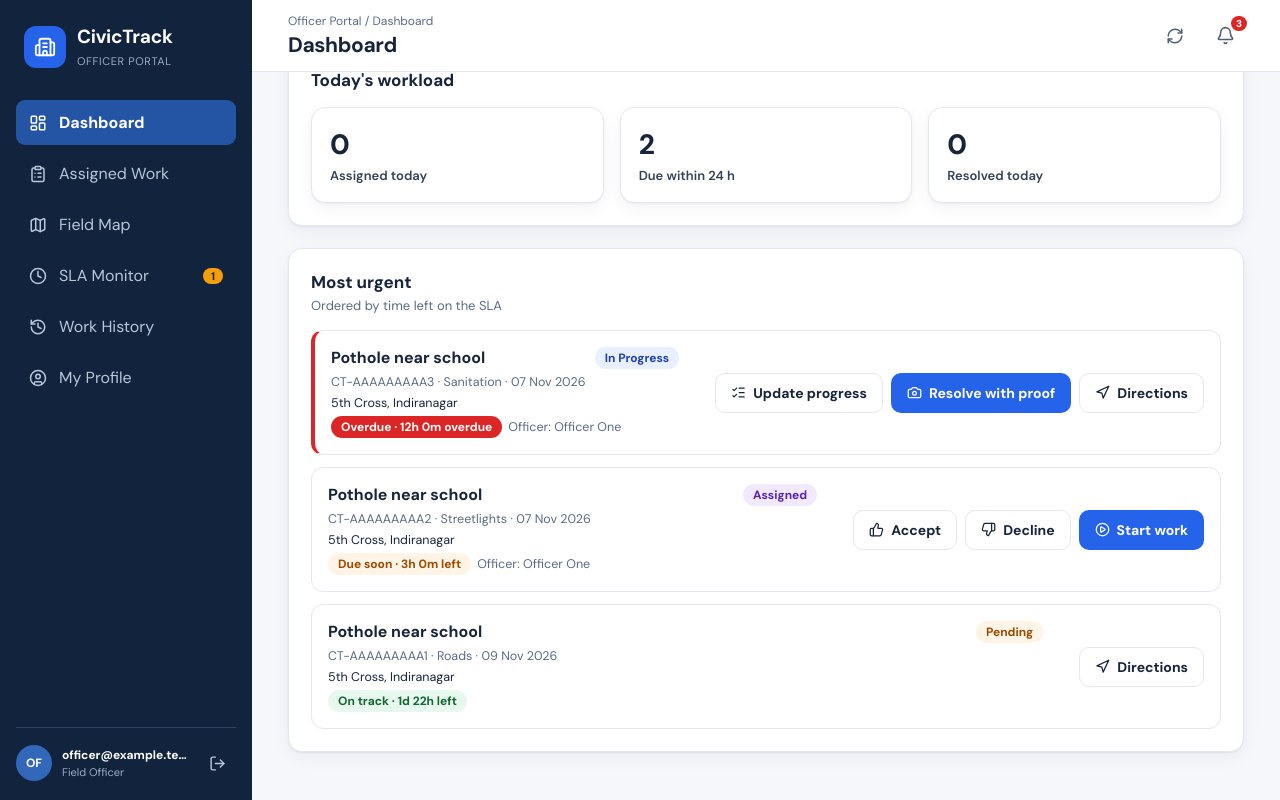
Scenario: officer assignment responses › accepts and declines with a mandatory reason
Later steps or results of the test are not shown.
(page scrolled)
Click the button "Accept".
click(905, 530)  # box [853,510,957,550]
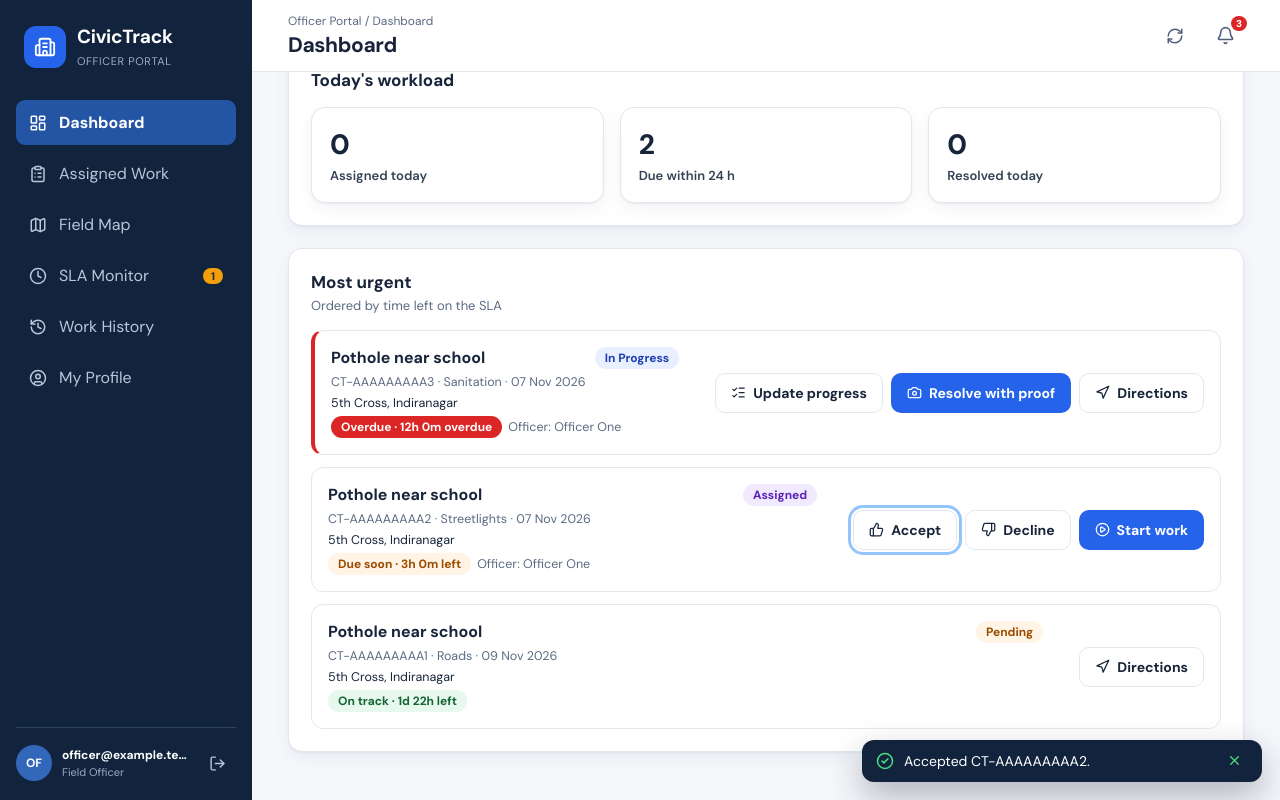
Click the button "Decline".
click(1018, 530)  # box [965,510,1071,550]
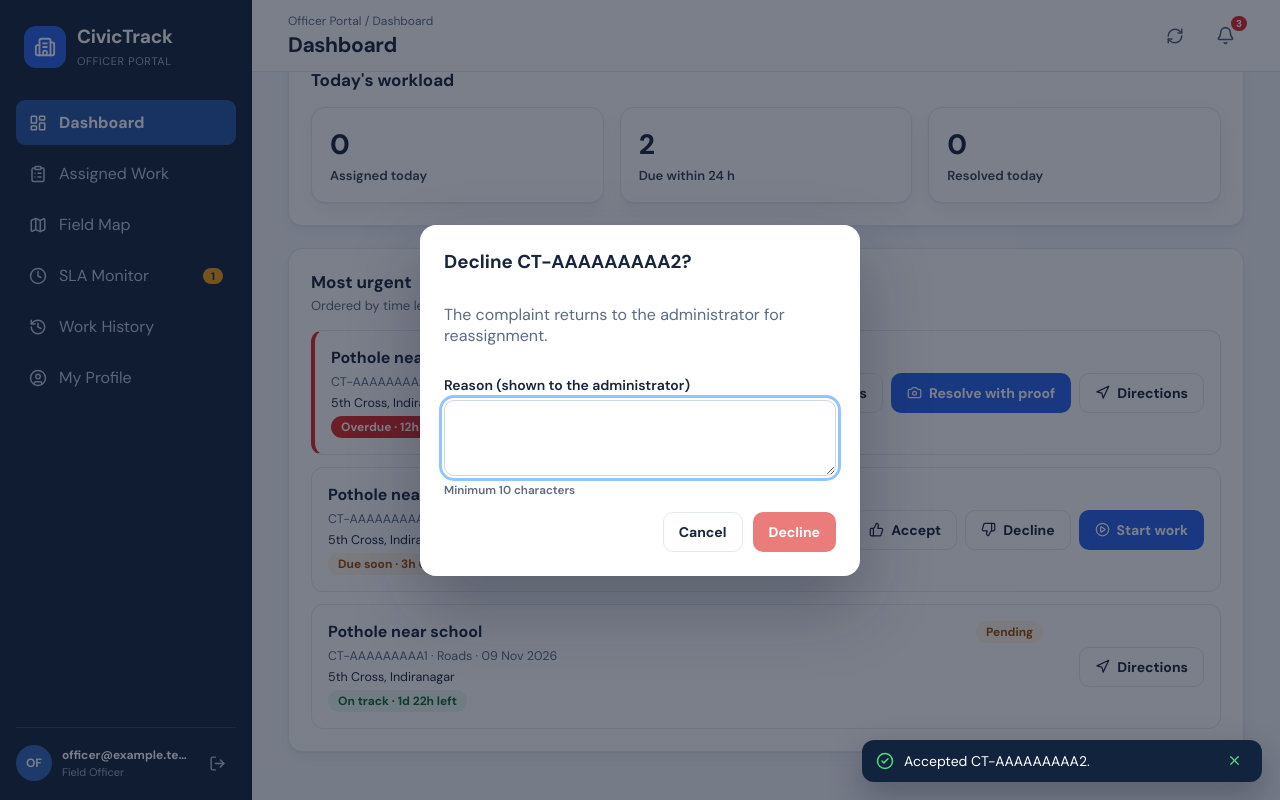
Type "too short" into the text box.
click(640, 438); type("too short")  # box [444,400,836,476]
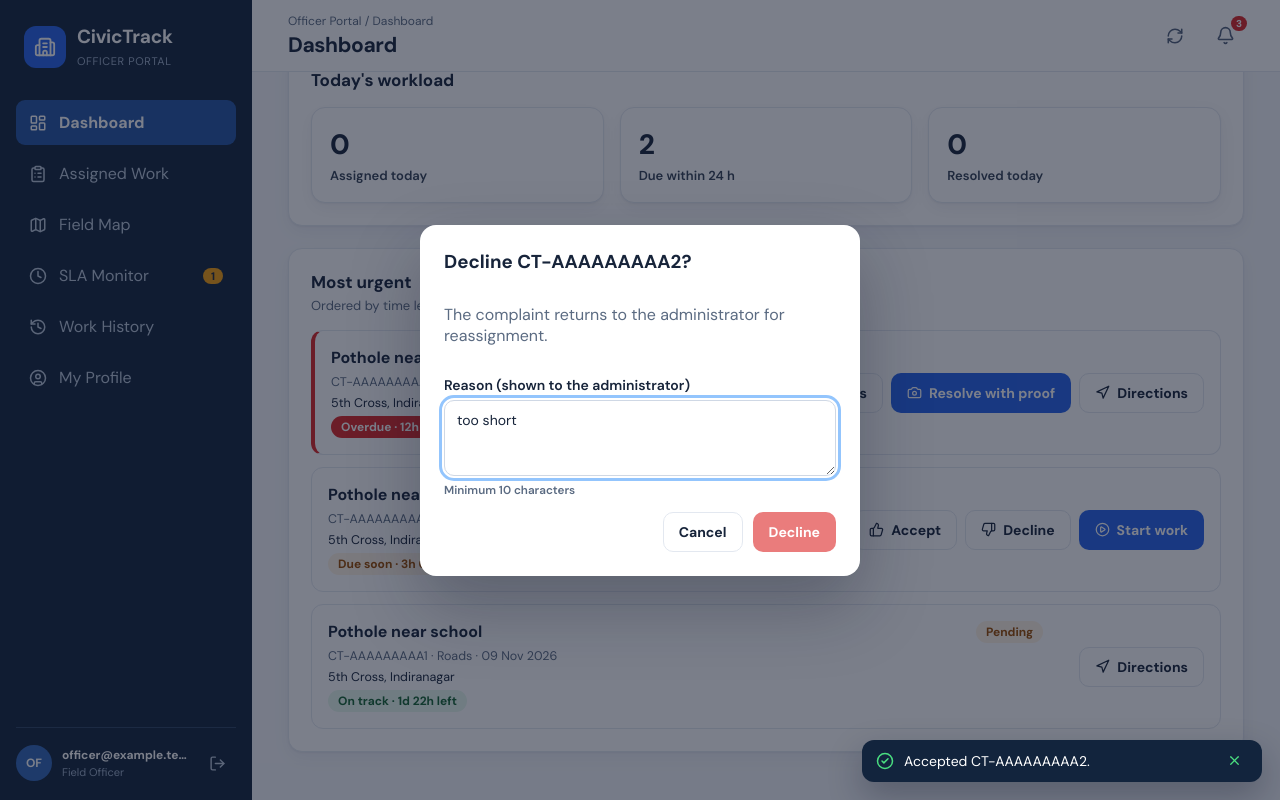
expect the button "Decline" is disabled: met, box [752,512,836,552]
